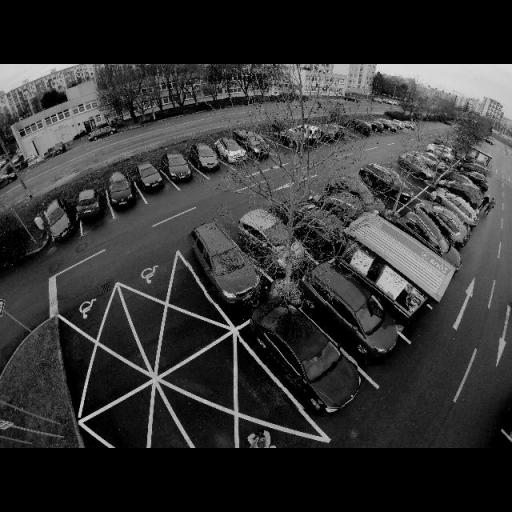busy: (239, 295, 358, 411), (304, 252, 395, 362), (186, 221, 260, 305), (236, 208, 288, 264), (299, 208, 349, 259), (414, 202, 470, 241), (40, 194, 78, 242), (332, 176, 378, 212), (435, 172, 482, 206), (433, 188, 479, 220), (314, 188, 362, 218), (72, 183, 106, 225), (103, 170, 139, 209), (360, 164, 398, 196), (159, 151, 193, 183), (134, 160, 165, 192), (214, 134, 246, 165), (398, 153, 434, 180), (188, 142, 220, 172), (236, 131, 268, 159), (456, 162, 486, 186), (346, 119, 371, 137)
free: (386, 164, 419, 188)
